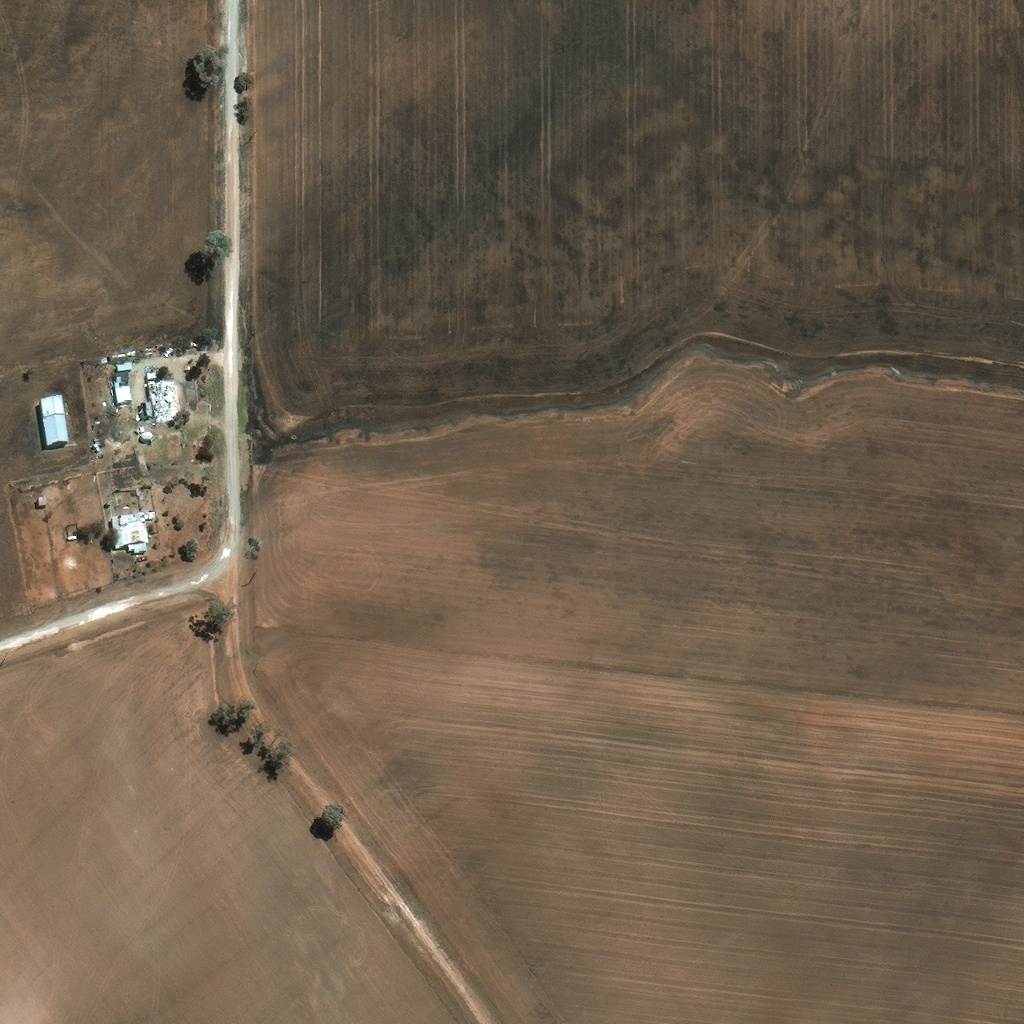0 no-damage: (40, 393, 68, 442), (67, 519, 78, 536), (39, 492, 49, 501)
1 minor-damage: (115, 370, 133, 399), (117, 361, 131, 369)
2 major-damage: (112, 510, 148, 551)
3 destroyed: (148, 375, 179, 413), (139, 399, 151, 414), (141, 428, 154, 436), (132, 376, 140, 388), (146, 369, 157, 376), (80, 356, 84, 362)
